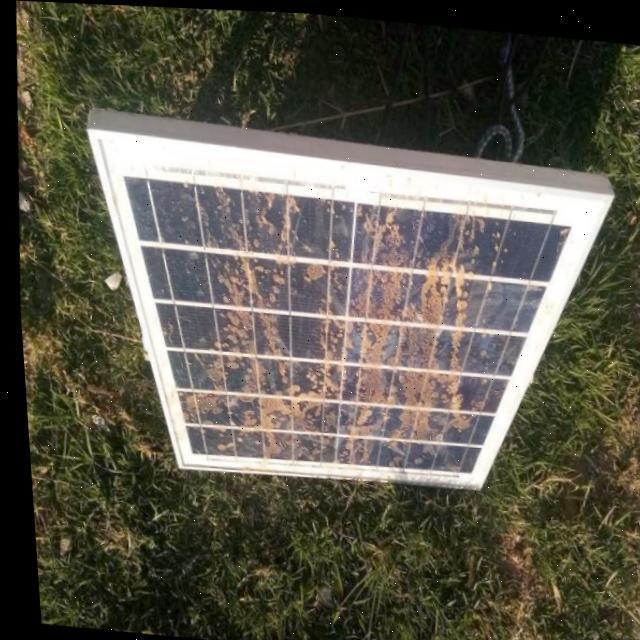Anomaly Solar Panel: (108, 147, 592, 482)
Surface Contaminant: (151, 188, 545, 471)
